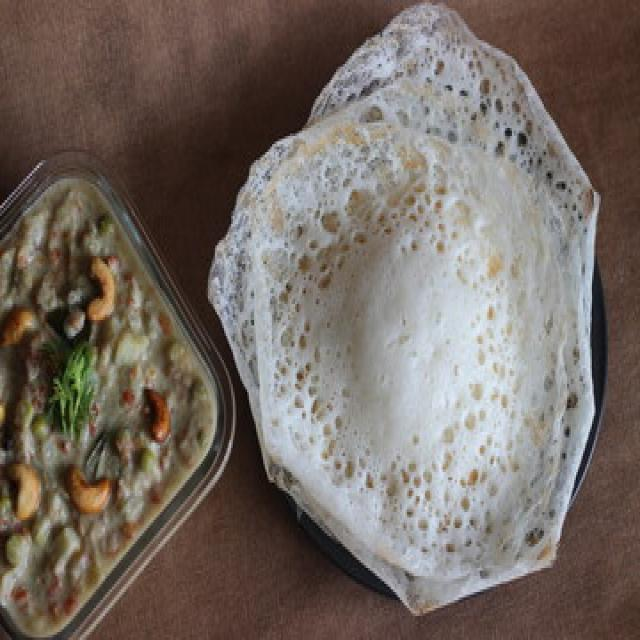AAPAM: (206, 0, 599, 609)
VEGGIES: (1, 183, 217, 637)
